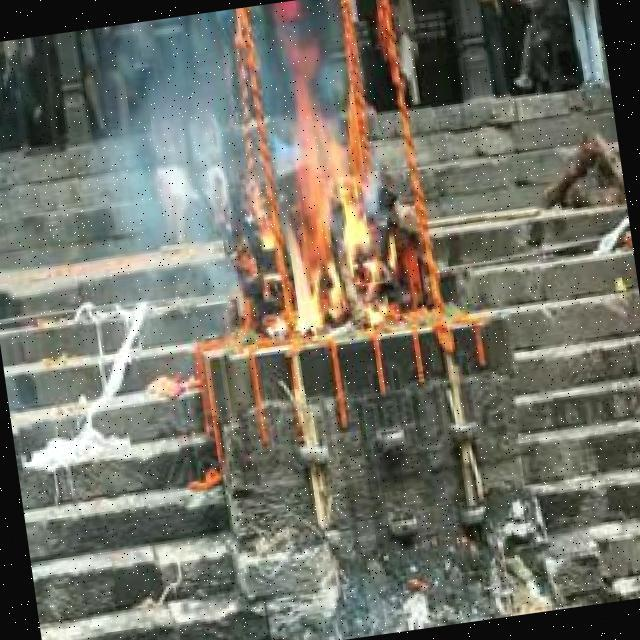Fire: (261, 114, 387, 339)
